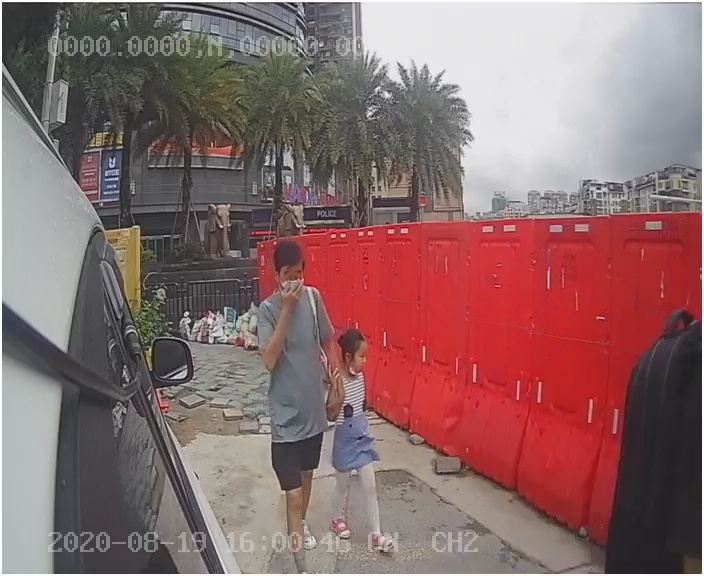person: (232, 232, 348, 524)
